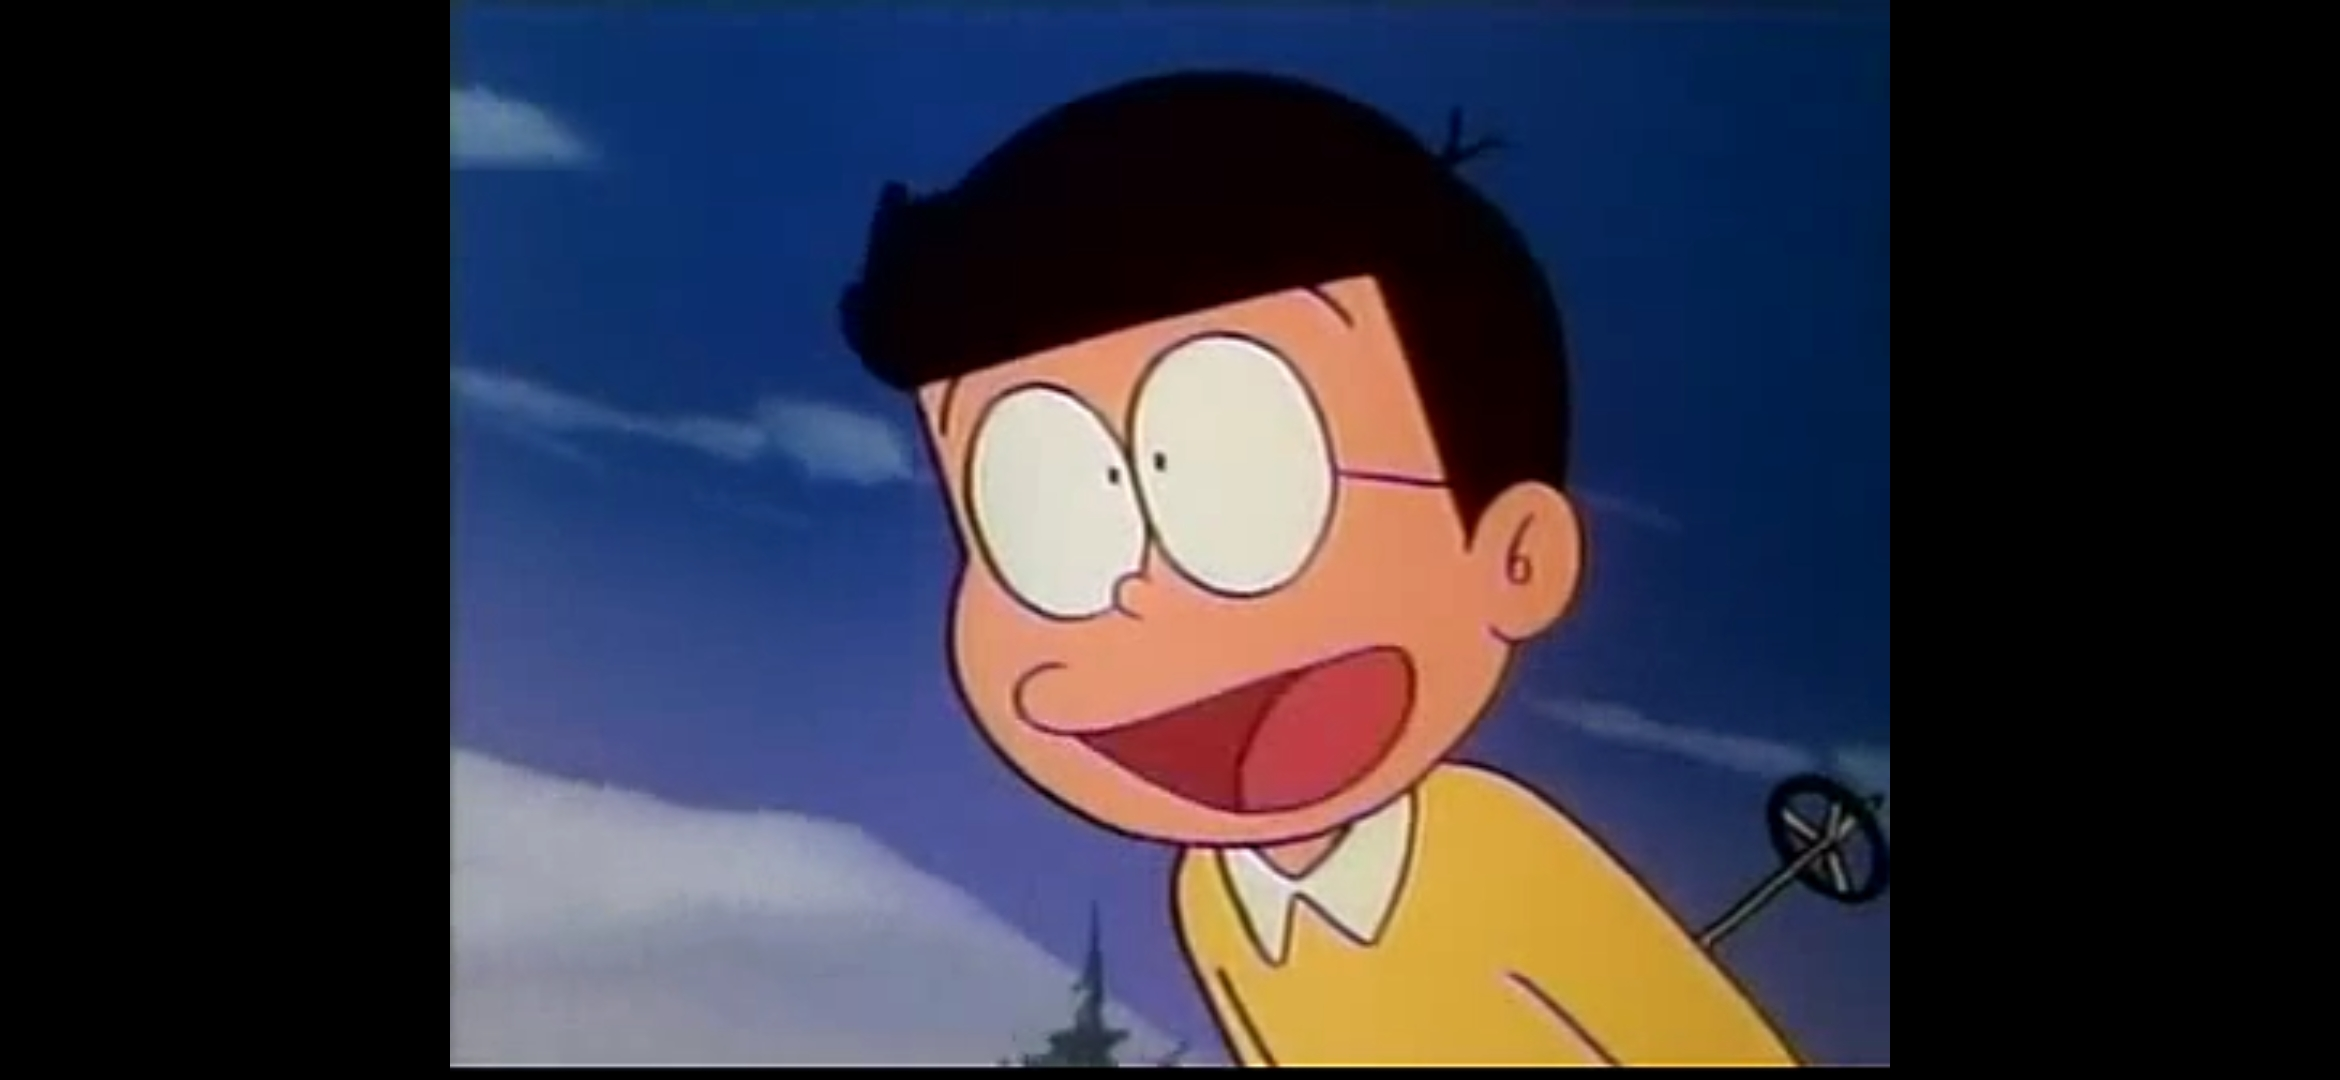Nobi: (842, 75, 1580, 841)
